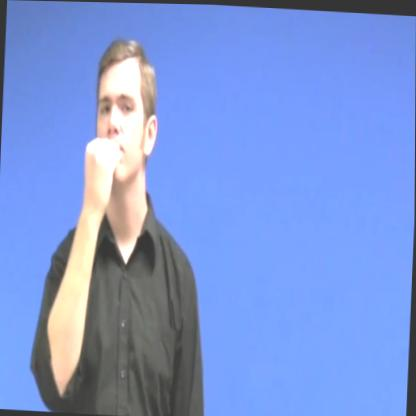Food: (69, 35, 171, 230)
